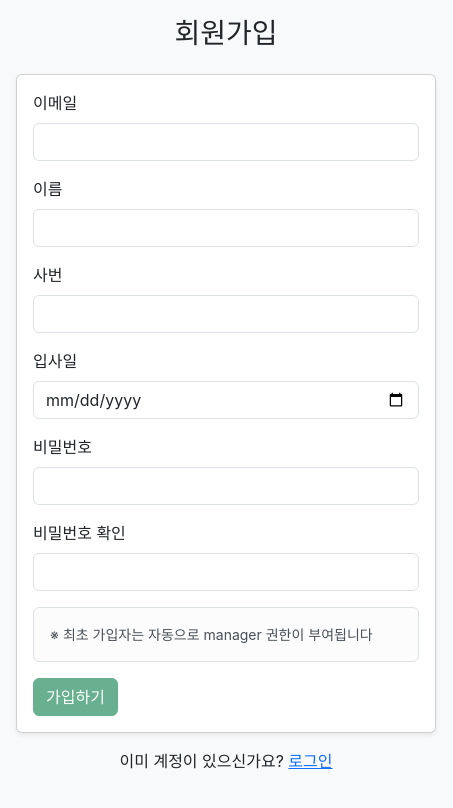
SignupPage › 중복된 사번으로 제출하면 사번 필드에 에러가 표시된다
The image size is (453, 808).
Type "test@example.com" into the field below "이메일" at (226, 142), box [33,123,419,161]
Type "홍길동" into the field below "이름" at (226, 228), box [33,209,419,247]
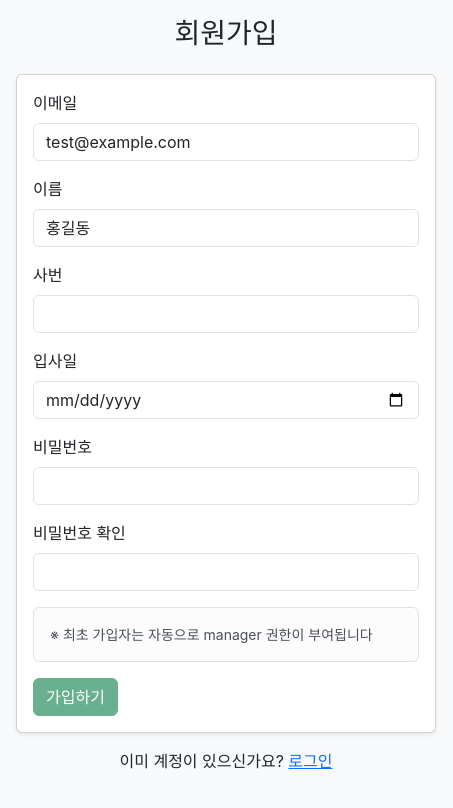
Type "DUP-001" into the field below "사번" at (226, 314), box [33,295,419,333]
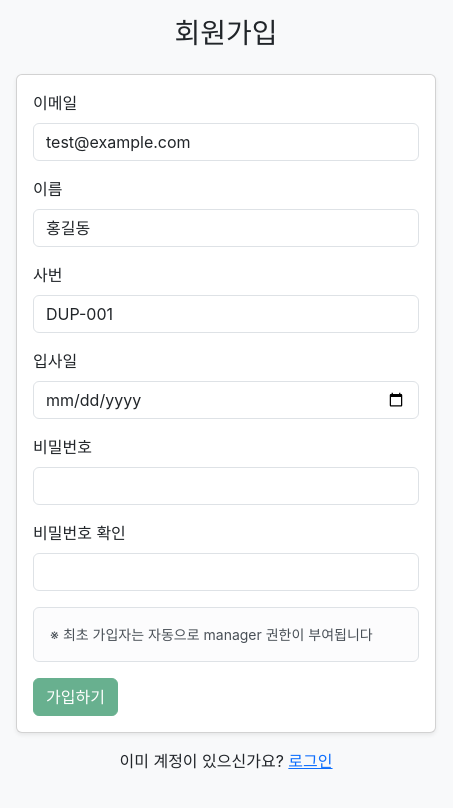
Type "2026-01-01" into the date field at (226, 400), box [33,381,419,419]
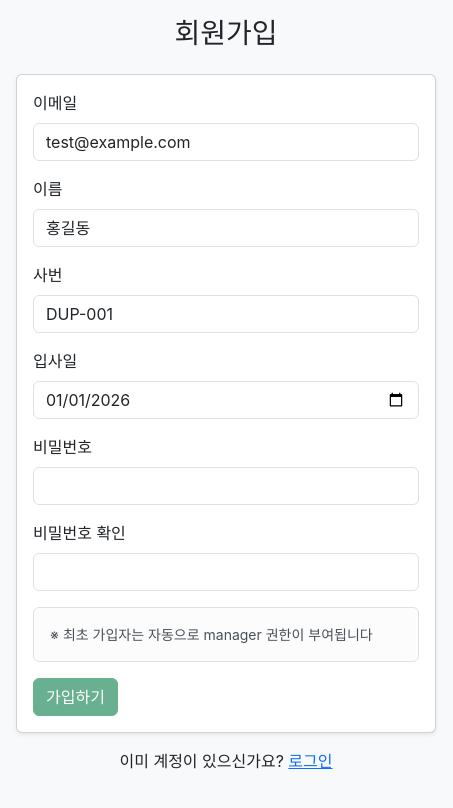
Type "password1!" into the 1st password field at (226, 486), box [33,467,419,505]
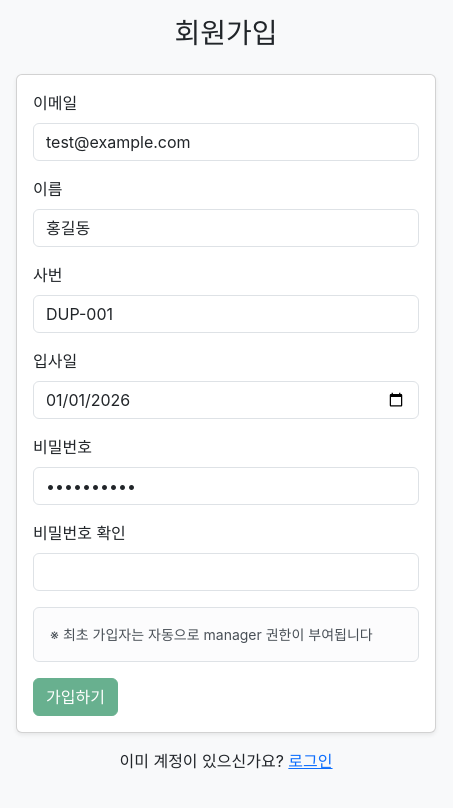
Type "password1!" into the password field below "비밀번호 확인" at (226, 572), box [33,553,419,591]
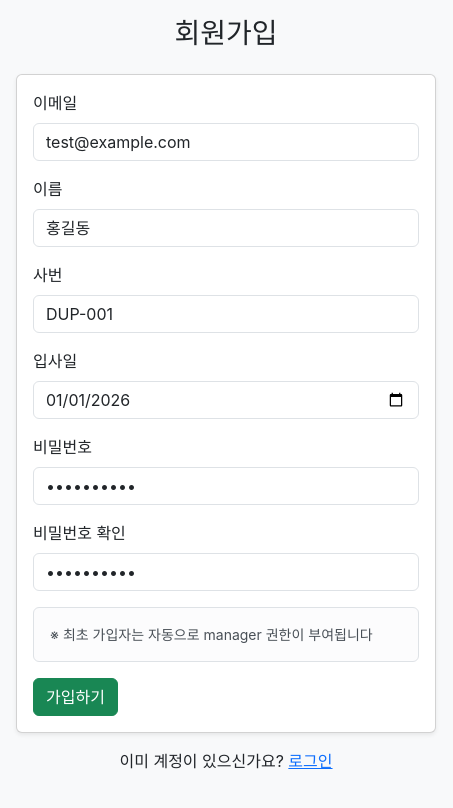
Click the button "가입하기" at (75, 697), box [33,678,118,716]
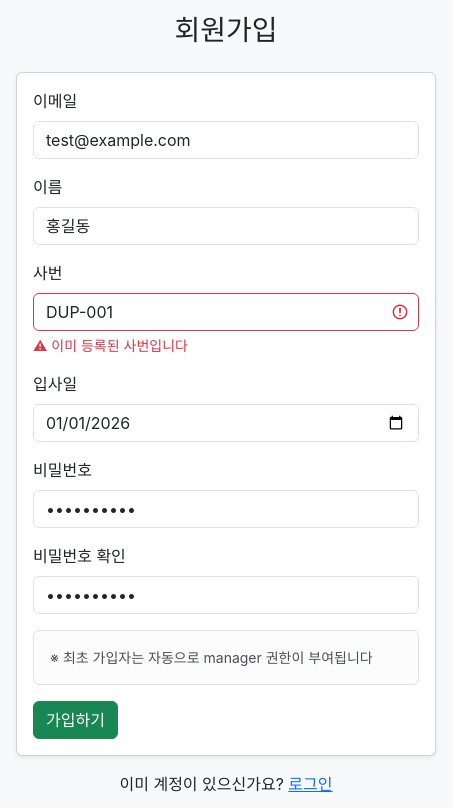
expect the message shows "이미 등록된 사번입니다": met, box [51,337,188,354]
